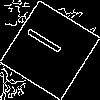I: (24, 25, 72, 61)
